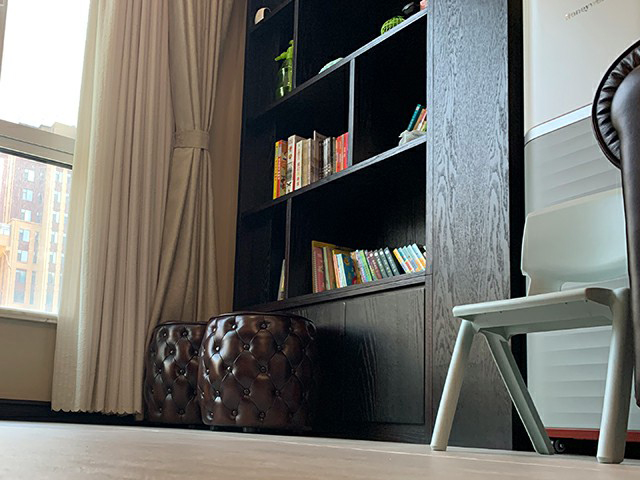cabinet: (244, 2, 525, 450)
curtain: (50, 1, 161, 422), (162, 1, 231, 314)
stool: (431, 186, 640, 465), (196, 310, 319, 437), (141, 320, 210, 429)
